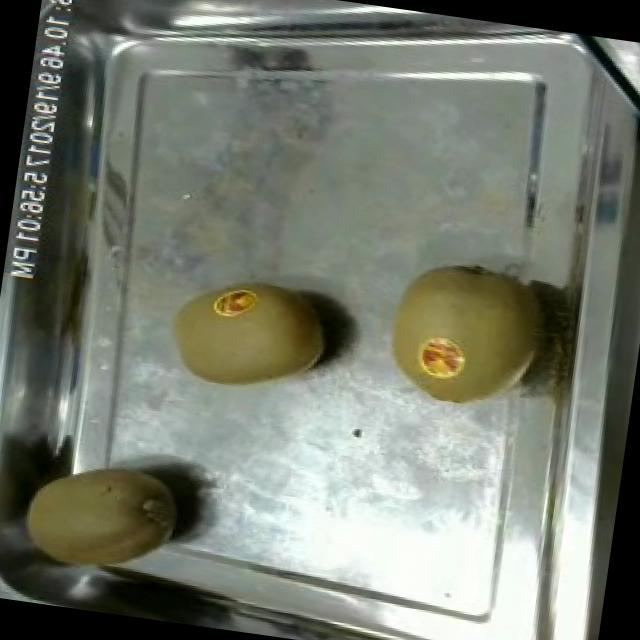Fruit: (366, 241, 573, 427), (7, 441, 195, 596), (154, 266, 342, 406)
